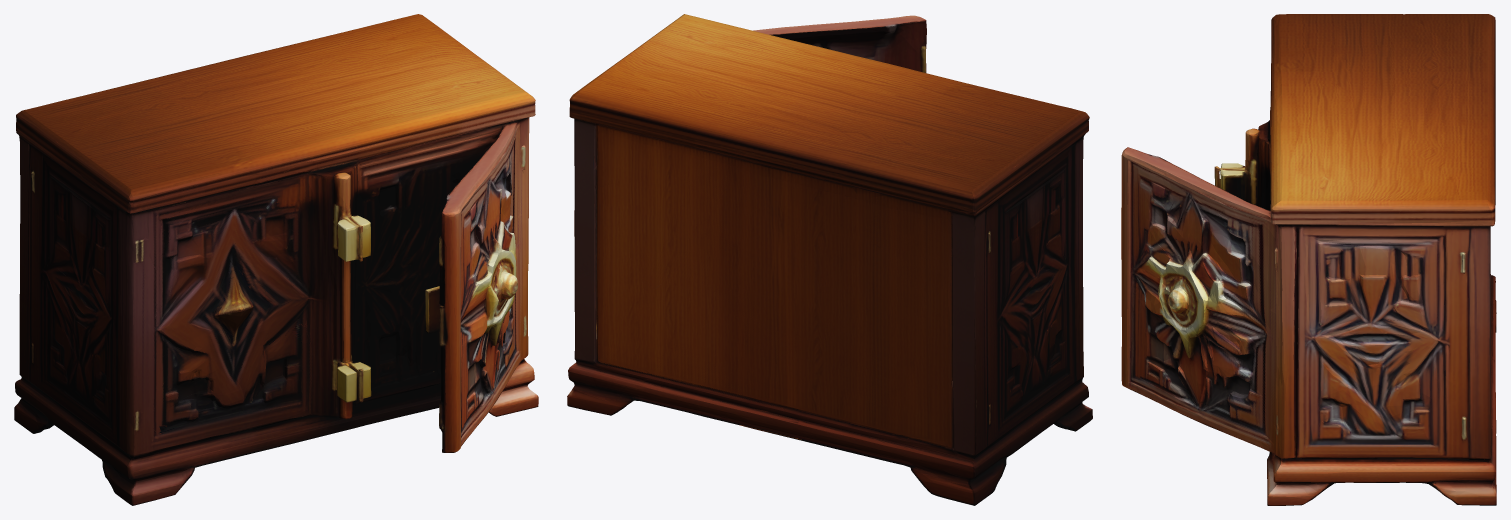
The model's file is wooden-book-safe-art-deco.jpeg.glb.
3 renders of one model, left to right at view 1: azimuth 30°, elevation 25°; view 2: azimuth 150°, elevation 25°; view 3: azimuth 270°, elevation 25°, orthographic. The views are drawn at different scales.
Parts seen in each view (by area): view 1: world; view 2: world; view 3: world.
Part boxes in pixels (left/top/right/bottom): world: left=14, top=14, right=538, bottom=505; world: left=567, top=14, right=1092, bottom=505; world: left=1121, top=14, right=1496, bottom=505.
Bounding box in the file's own units: 1 × 0.735 × 0.8234.
1 material, 1 textured.
